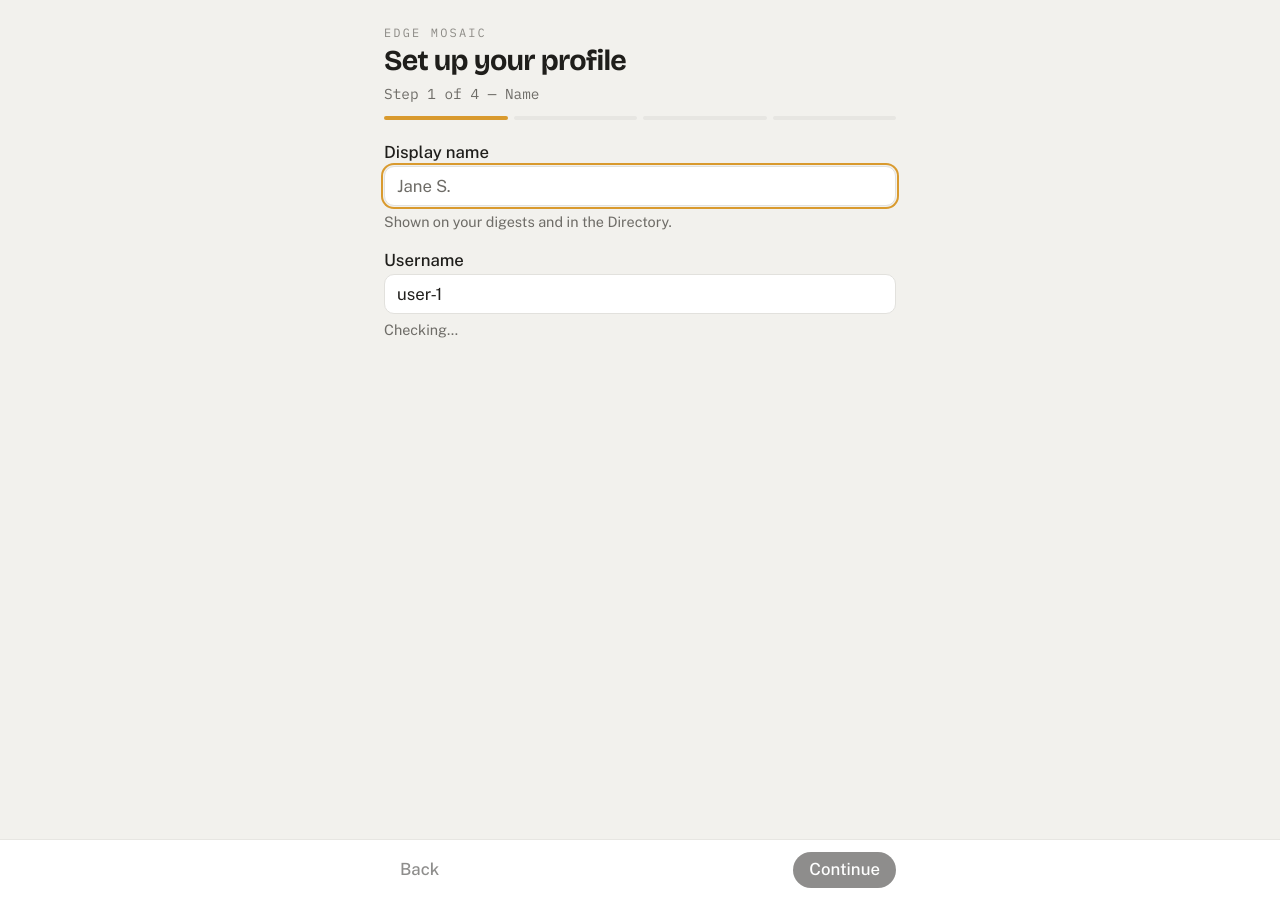
Test: Onboarding wizard › walks the steps, saving the name + username then enrichment fields
Check: the text "Step 1 of 4 — Name" is shown, box top-left (384, 84), bottom-right (540, 103)
In the field with placeholder "Jane S.": (640, 186) top-left (384, 166), bottom-right (896, 206), type "Chase B."
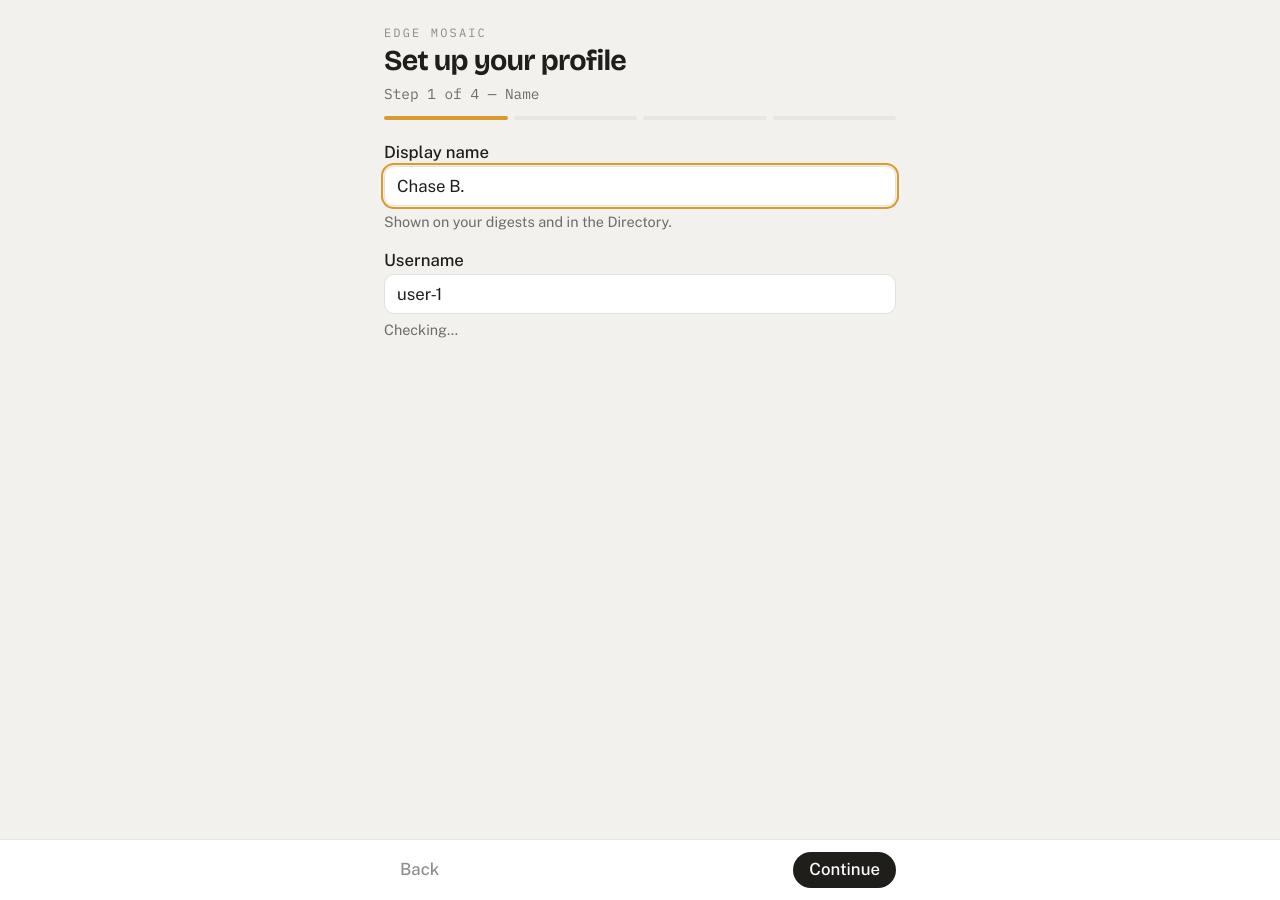
Replace the text in the field with placeholder "janes" below "Username" with "chaseb": (640, 294) top-left (384, 274), bottom-right (896, 314)
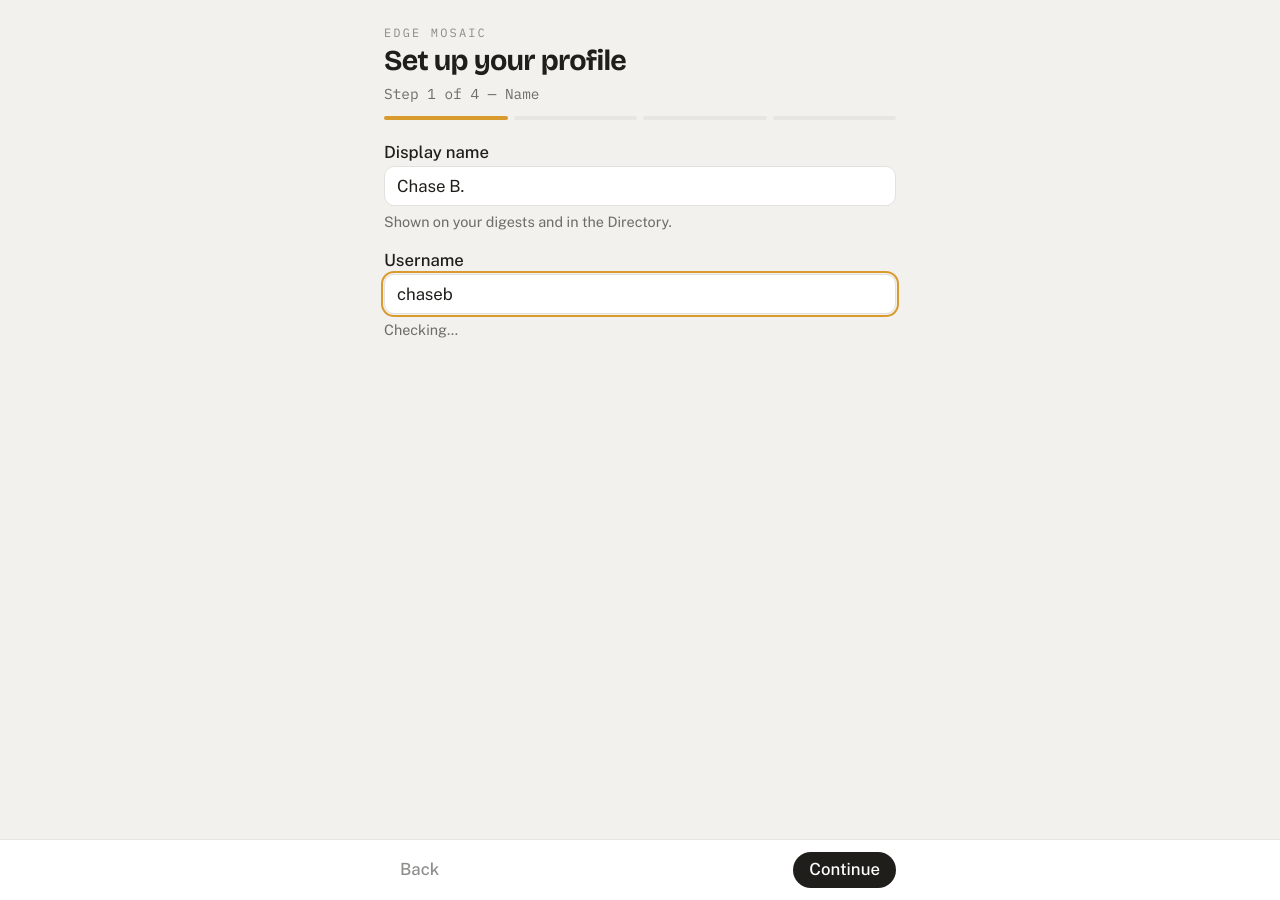
Click the button "Continue": (845, 870) top-left (793, 852), bottom-right (896, 888)
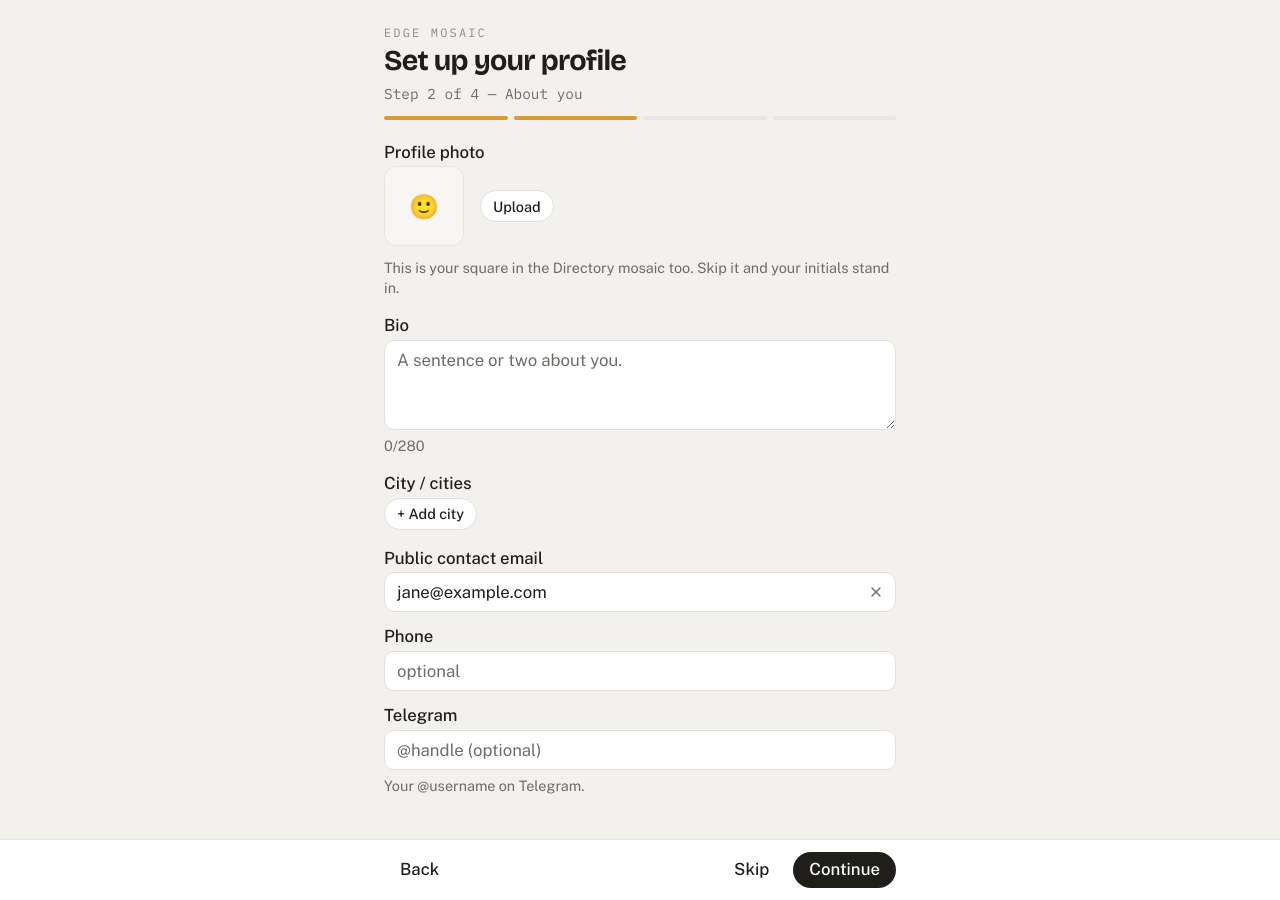
Check: the text "Step 2 of 4 — About you" is shown, box top-left (384, 84), bottom-right (583, 103)
In the text box with placeholder "A sentence or two about you.": (640, 385) top-left (384, 340), bottom-right (896, 430), type "Builder."
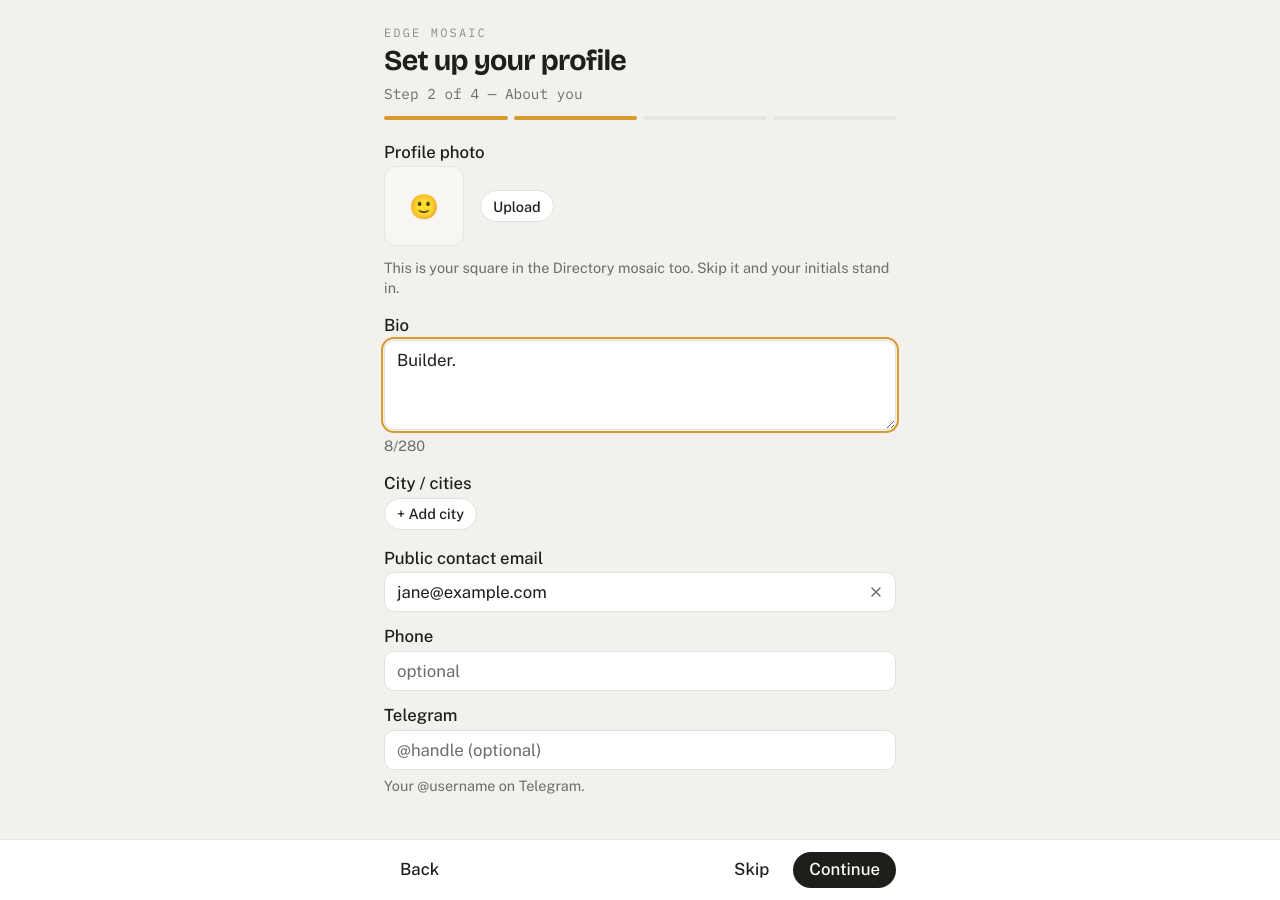
Click the button "Continue": (845, 870) top-left (793, 852), bottom-right (896, 888)
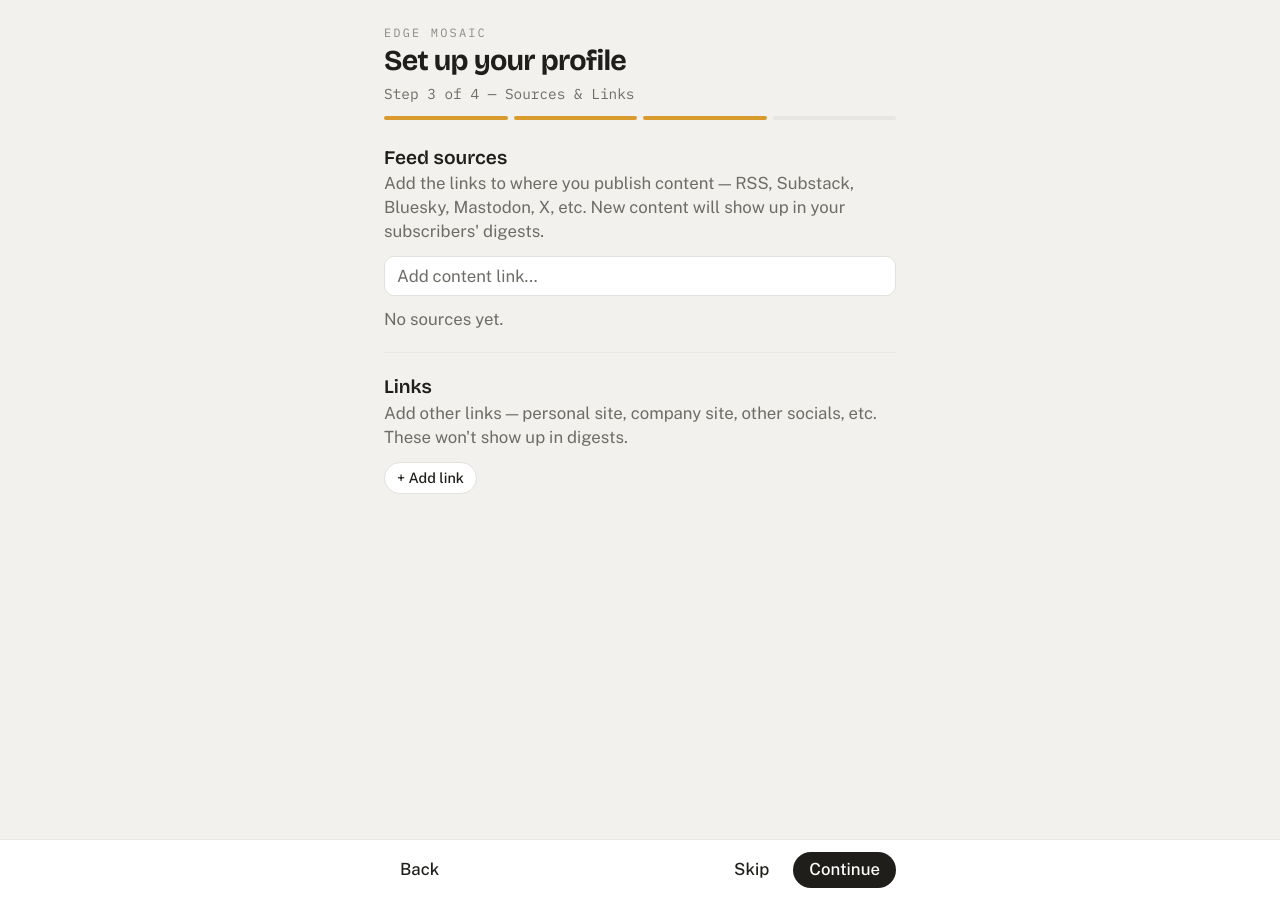
Check: the text "Step 3 of 4 — Sources & Links" is shown, box top-left (384, 84), bottom-right (634, 103)
